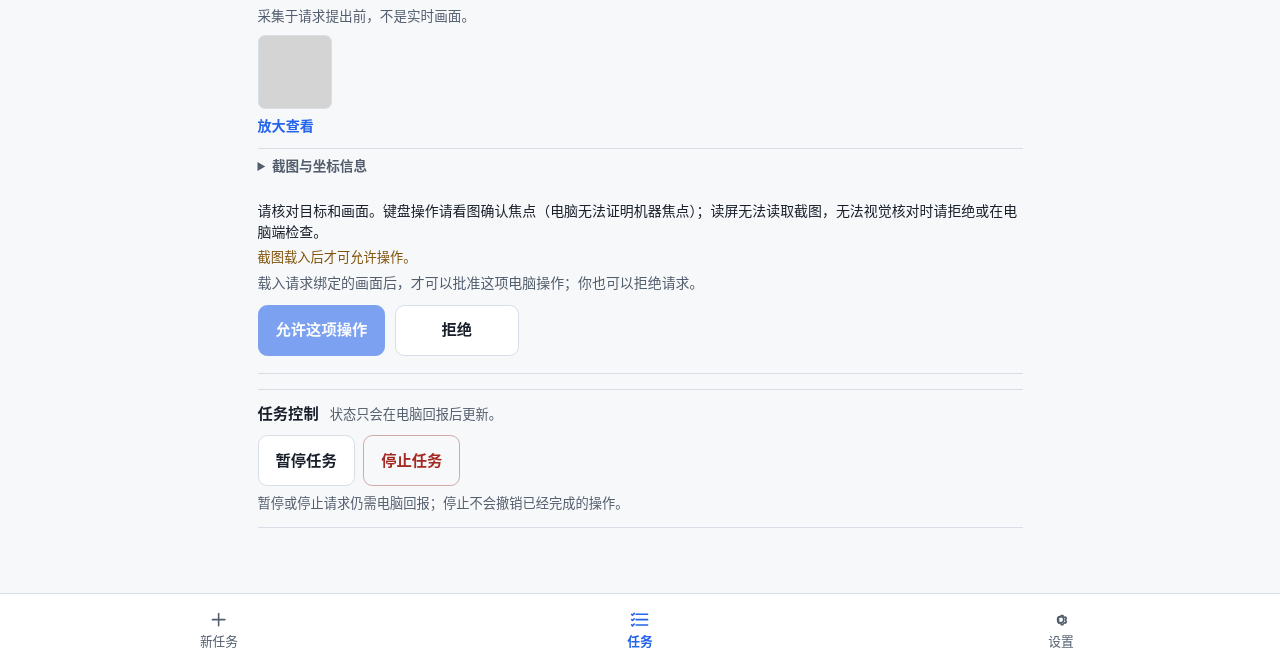
stop confirmation lifecycle › drops an open confirmation after terminal changes
This screenshot has width=1280, height=665.
(page scrolled)
Click the button "停止任务": {"x": 412, "y": 461} [363,436,460,486]
(page scrolled)
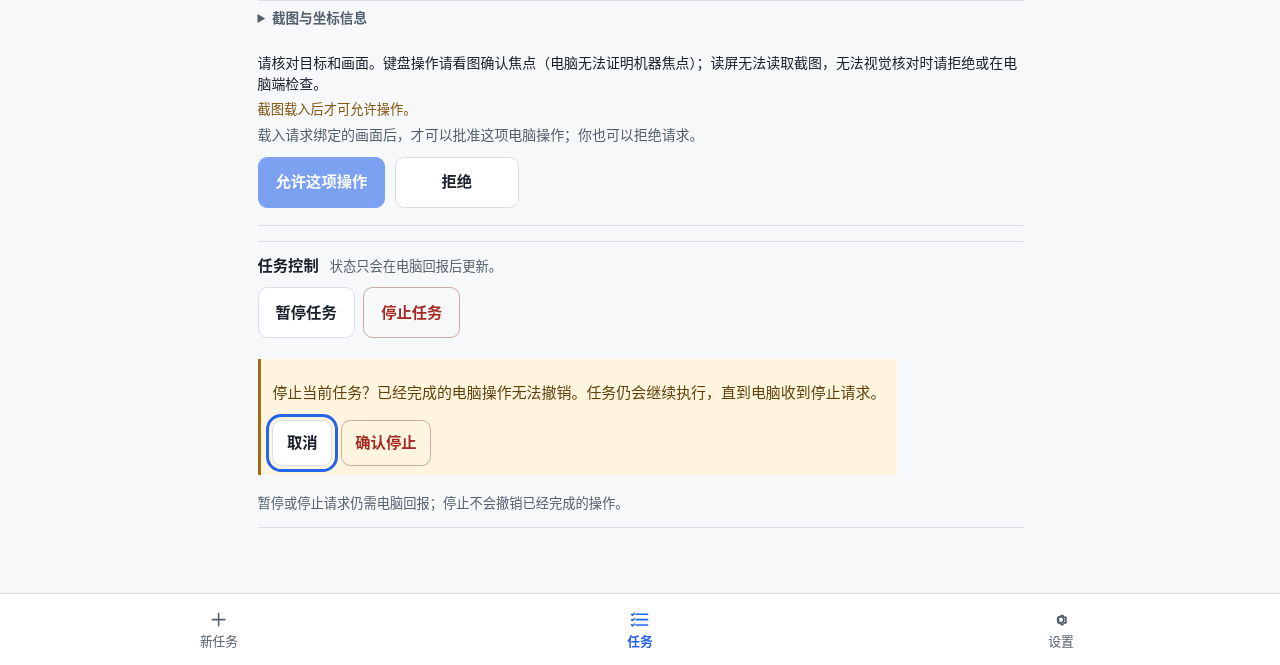
Expected: the element named "确认停止任务" is shown, [258,359,897,475]
